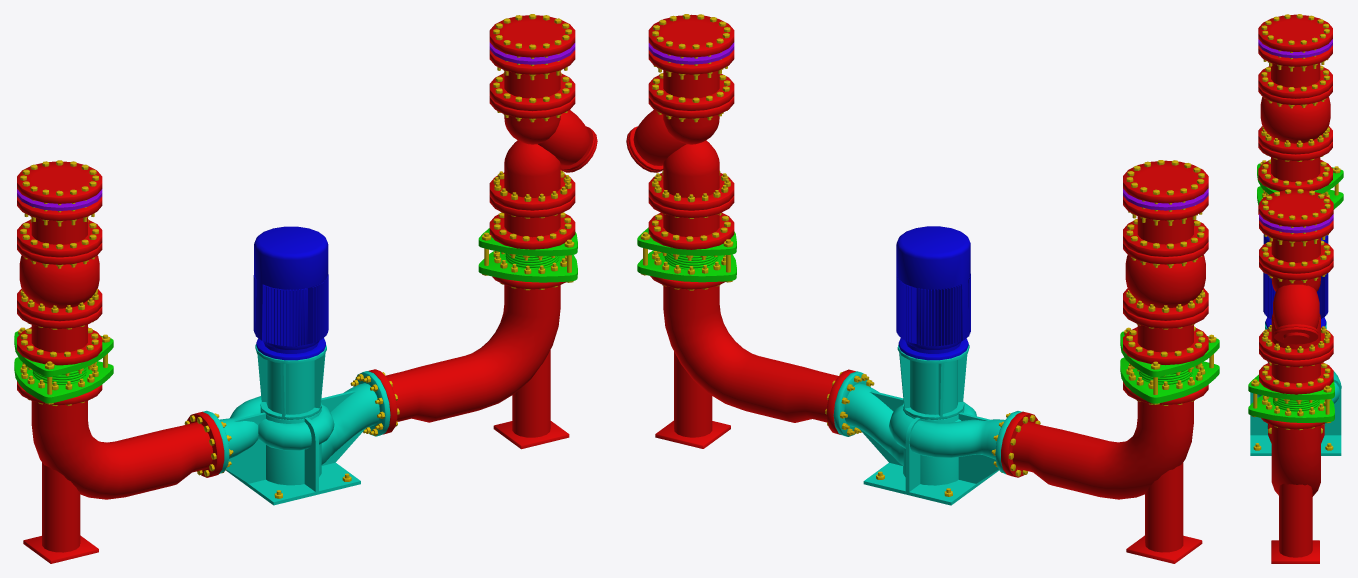
File: Chiller Cooling Pump_Re.fbx
3 renders of one model, left to right at view 1: azimuth 30°, elevation 25°; view 2: azimuth 150°, elevation 25°; view 3: azimuth 270°, elevation 25°, orthographic. The views are drawn at different scales.
Parts seen in each view (by area): view 1: Chiller Cooling Pump; view 2: Chiller Cooling Pump; view 3: Chiller Cooling Pump.
Boxes of the visible parts, left/top/right/bottom form: Chiller Cooling Pump: left=14, top=14, right=597, bottom=563; Chiller Cooling Pump: left=626, top=14, right=1219, bottom=563; Chiller Cooling Pump: left=1248, top=14, right=1343, bottom=563.
Bounding box in the file's own units: 4722 × 3174 × 782.
